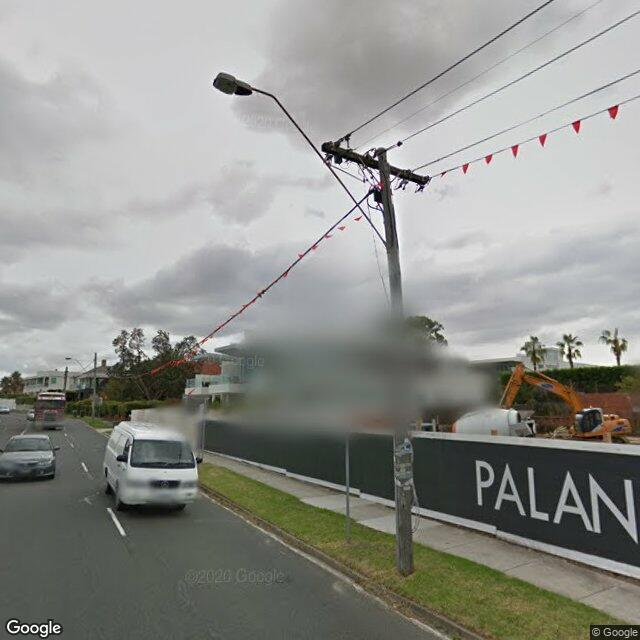crossarm: (322, 141, 429, 186)
streetlight: (214, 71, 388, 248), (64, 357, 94, 383)
timber-pole: (376, 147, 416, 576), (91, 352, 97, 422)
